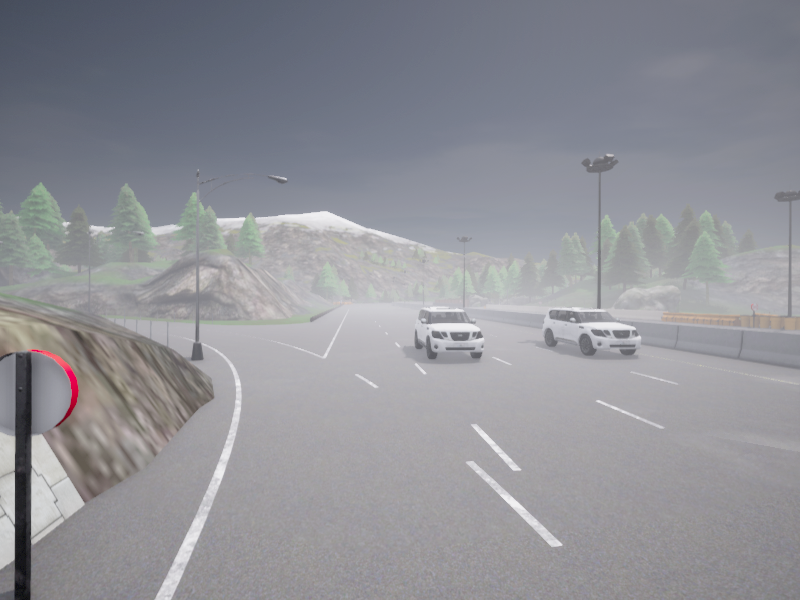vehicle: (542, 307, 640, 355), (414, 307, 483, 358)
